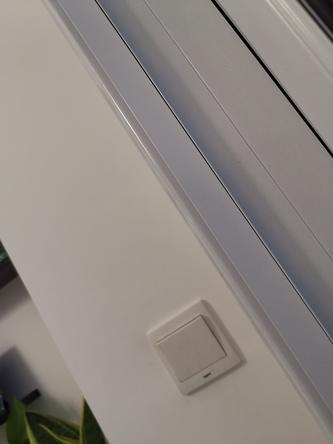switch: (157, 330, 230, 375)
